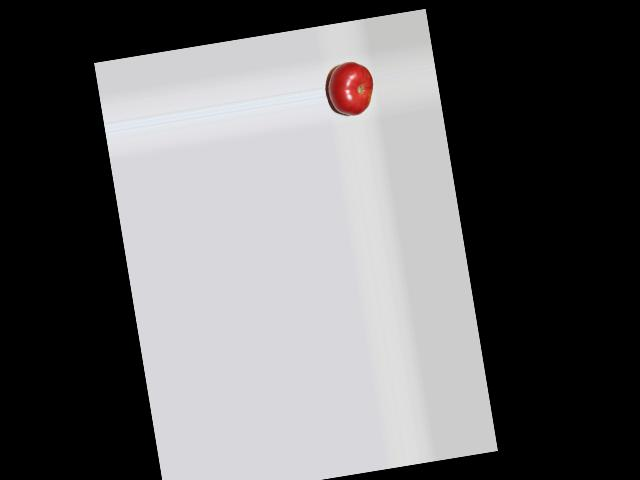tomato: (325, 58, 378, 119)
